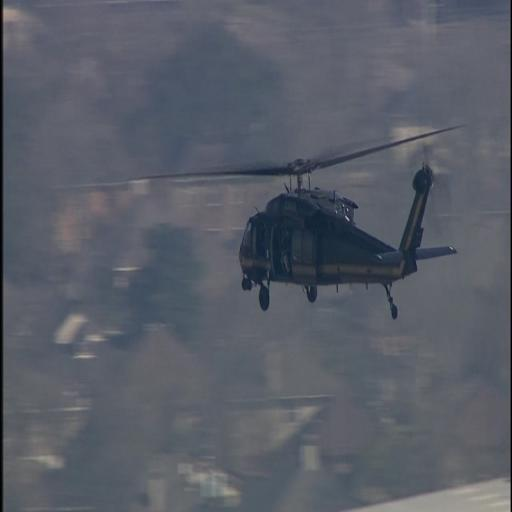helicopter: (137, 125, 467, 318)
